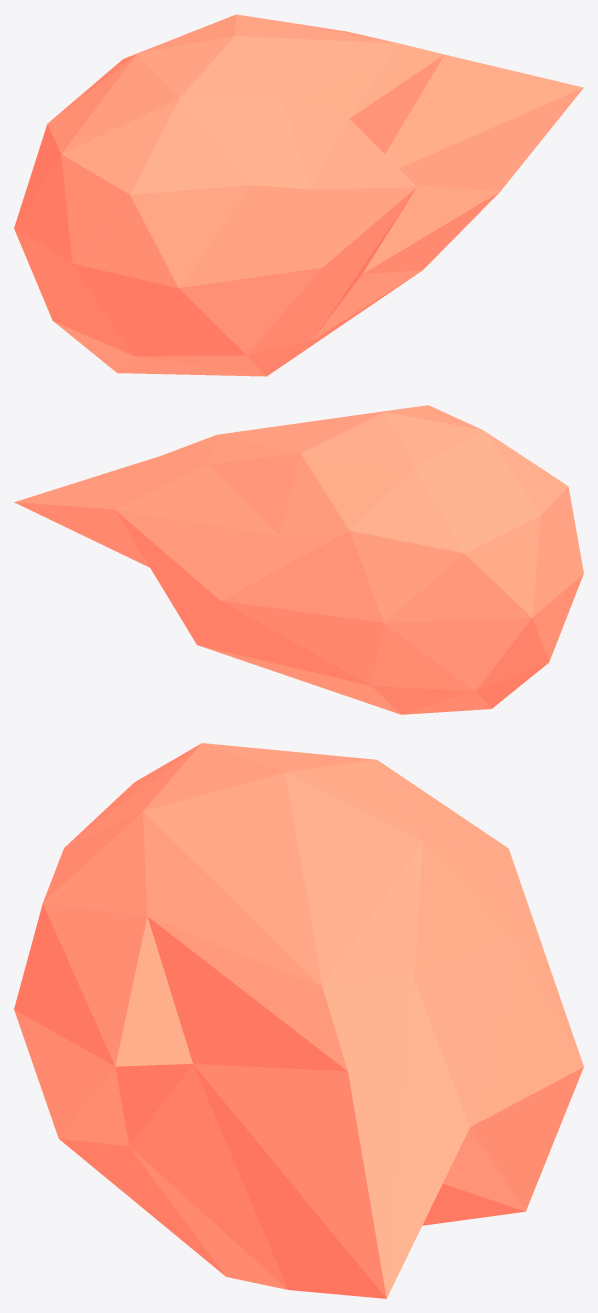
Rendered from fireball.fbx.
3 renders of one model, top to bottom at view 1: azimuth 30°, elevation 25°; view 2: azimuth 150°, elevation 25°; view 3: azimuth 270°, elevation 25°, orthographic. The views are drawn at different scales.
Visible parts, largest first — view 1: Icosphere.003; view 2: Icosphere.003; view 3: Icosphere.003.
Part boxes in pixels (x1,y1,x2,y2): Icosphere.003: (14,14,583,376); Icosphere.003: (14,405,583,714); Icosphere.003: (14,743,583,1298).
Size of the model in its own units: 122 by 64.19 by 70.84.
